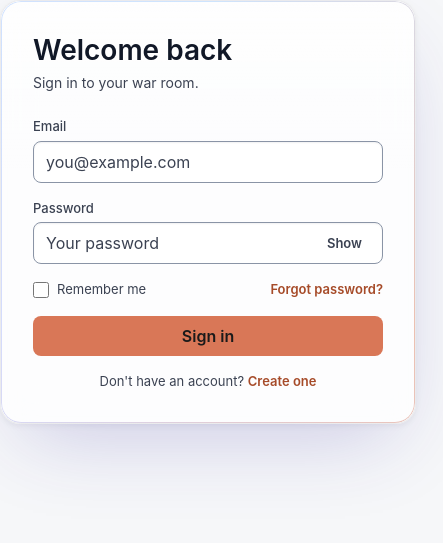
Test: AuthForm › falls back to a network message for a non-API failure
Type "a@b.com" into the field labelled "Email" at (208, 162), box x1=33 y1=140 x2=383 y2=182
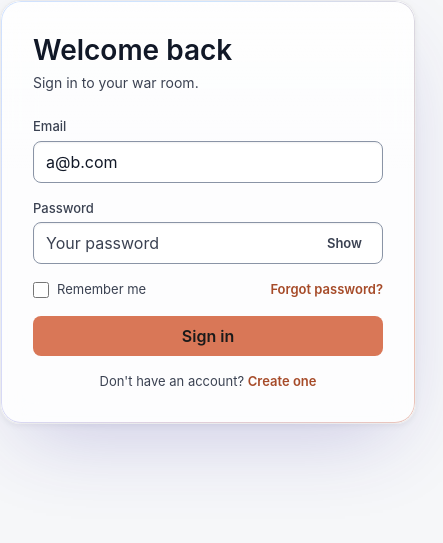
Type "password123" into the password field labelled "Password" at (208, 243), box x1=33 y1=222 x2=383 y2=264
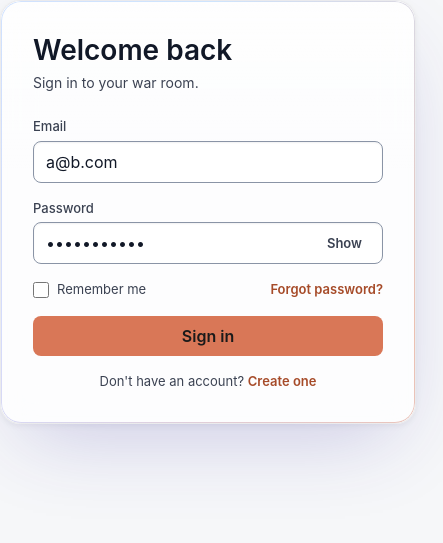
Click the button "Sign in" at (208, 336), box x1=33 y1=316 x2=383 y2=356
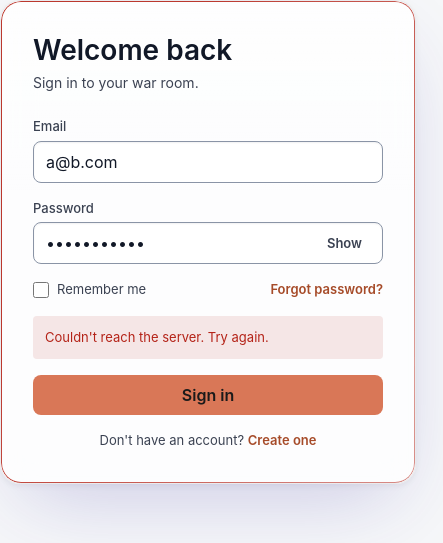
Result: the message reads "Couldn't reach the server. Try again." at x1=45 y1=328 x2=269 y2=344
